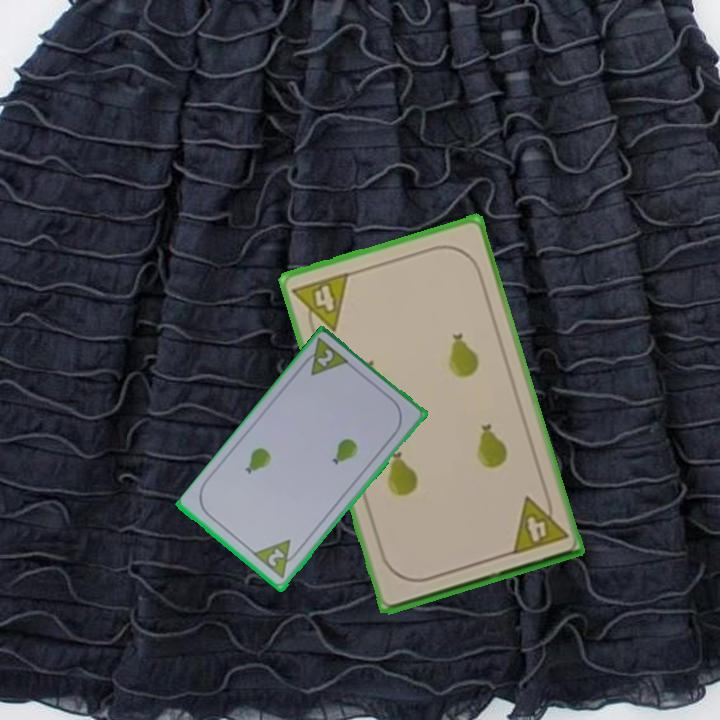2p: (296, 335, 353, 380), (264, 545, 288, 570)
4p: (289, 268, 352, 340), (507, 488, 571, 558)
